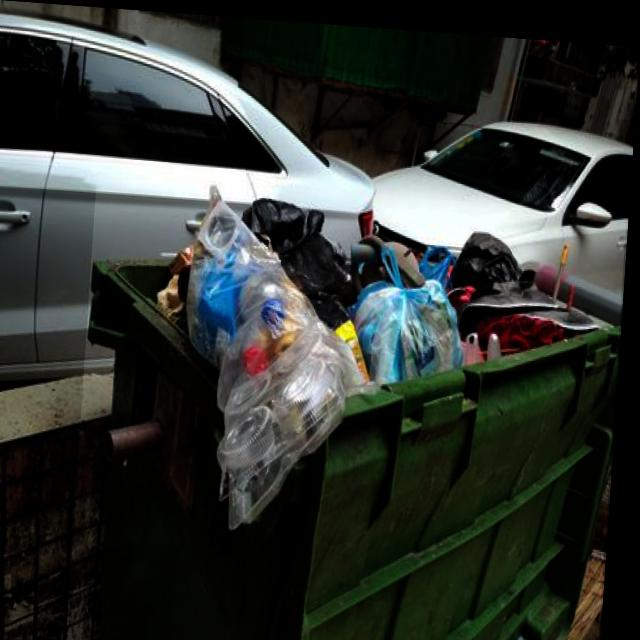overflow: (74, 172, 630, 640)
